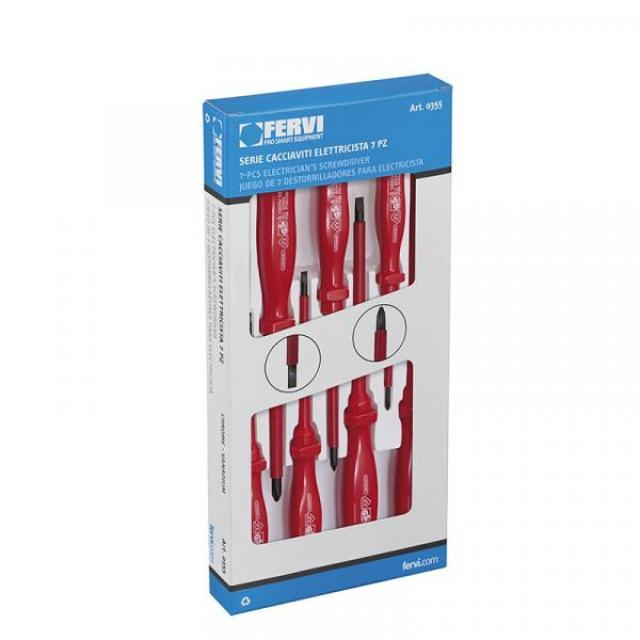screwdriver: (333, 191, 390, 527), (256, 183, 302, 501), (290, 268, 328, 538), (372, 165, 413, 414), (318, 173, 350, 472)
